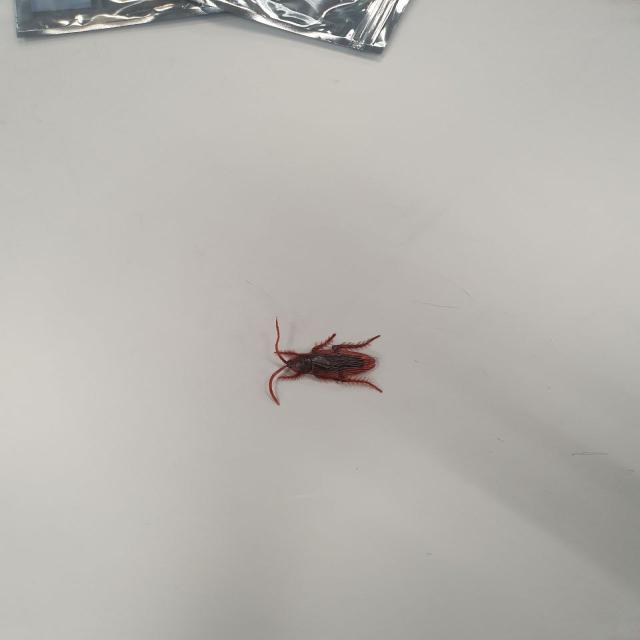Cockroach: (248, 300, 388, 410)
